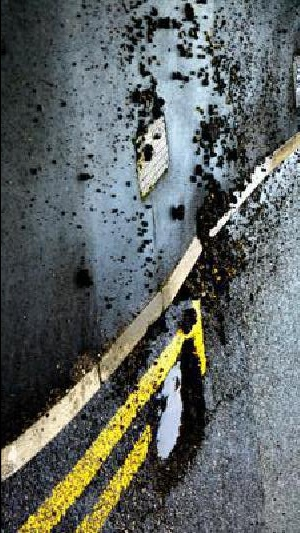pothole: (147, 336, 208, 495)
